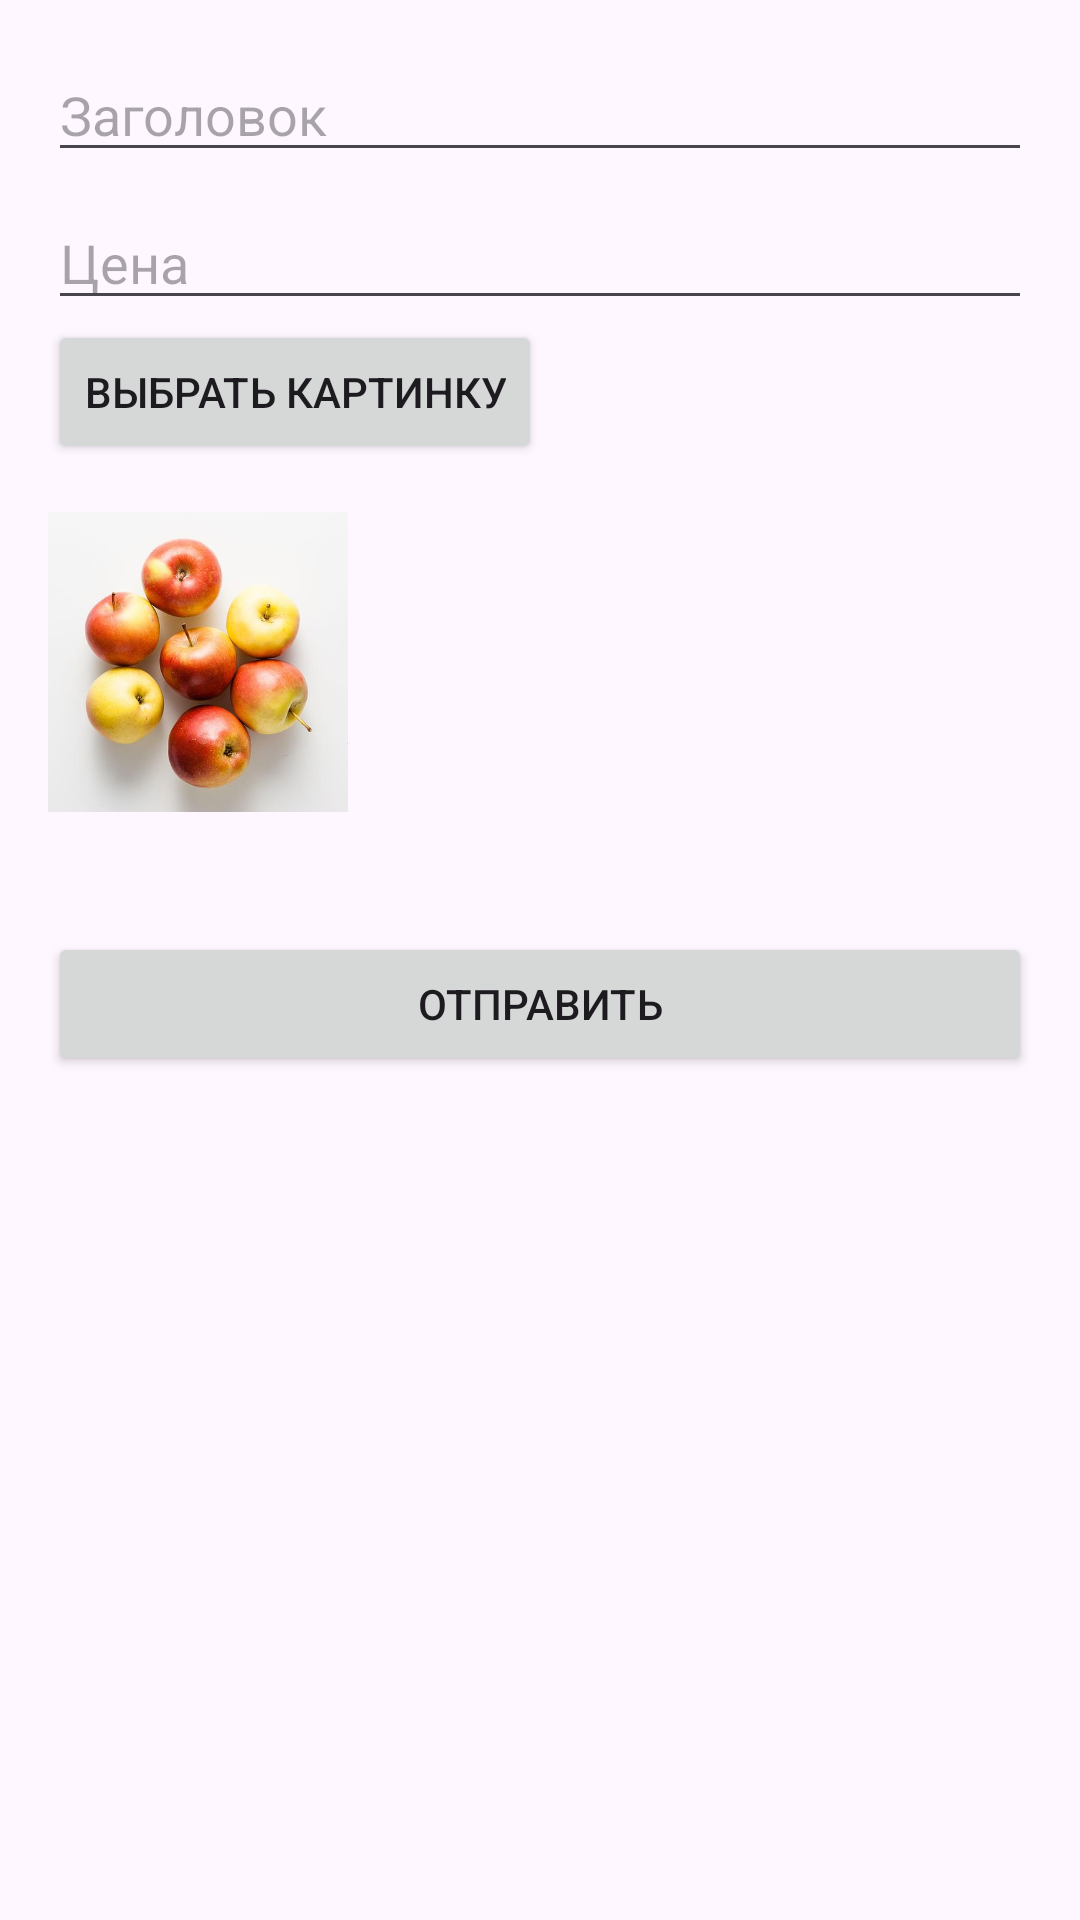

Where to tap for icons on this 1080 x 1920 app screen, as (x,y):
Предпросмотр изображения: (213,675)
